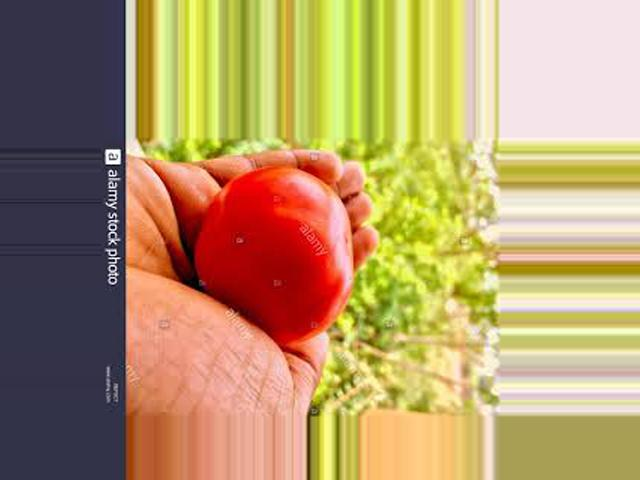tomato: (194, 168, 350, 342)
